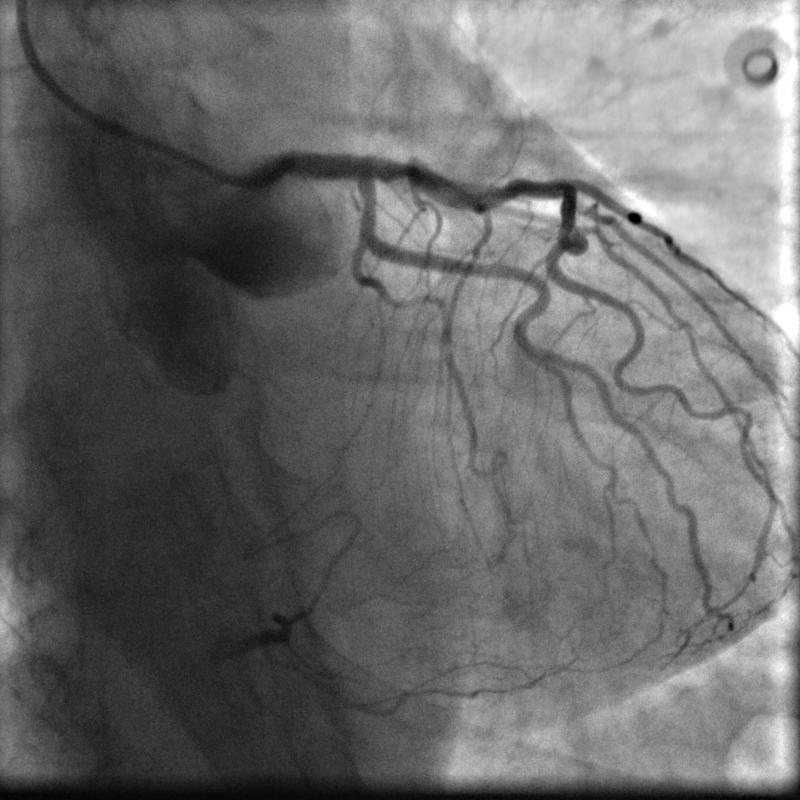Stenosis: (383, 151, 422, 188)
